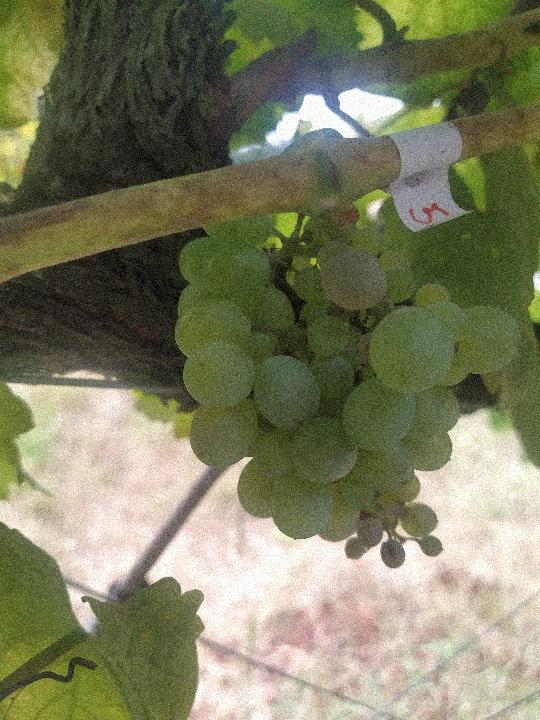grape: (170, 198, 525, 571)
